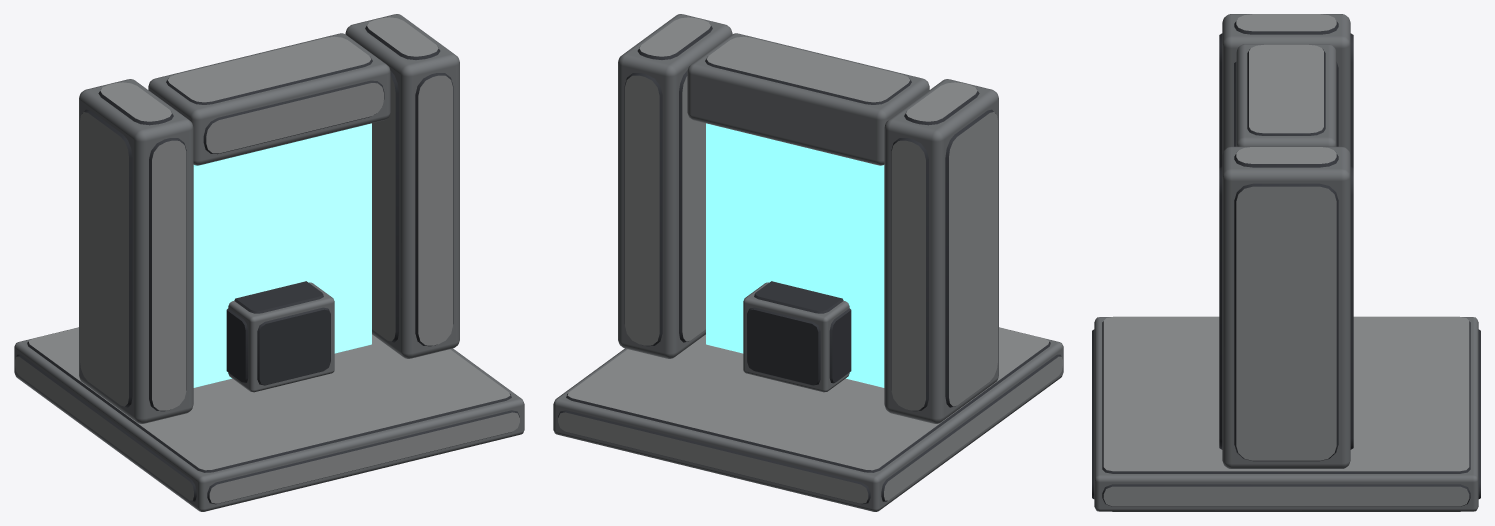
Rendered from R4X_StructuralScanner.glb.
3 renders of one model, left to right at view 1: azimuth 30°, elevation 25°; view 2: azimuth 150°, elevation 25°; view 3: azimuth 270°, elevation 25°, orthographic. The views are drawn at different scales.
Visible parts, largest first — view 1: R4X_StructuralScanner_Body; view 2: R4X_StructuralScanner_Body; view 3: R4X_StructuralScanner_Body.
Boxes of the visible parts, box(x1,y1,x2,y2) form: R4X_StructuralScanner_Body: box(14, 14, 524, 511); R4X_StructuralScanner_Body: box(553, 14, 1063, 511); R4X_StructuralScanner_Body: box(1092, 14, 1480, 511).
Size of the model in its own units: 0.52 by 0.51 by 0.52.
